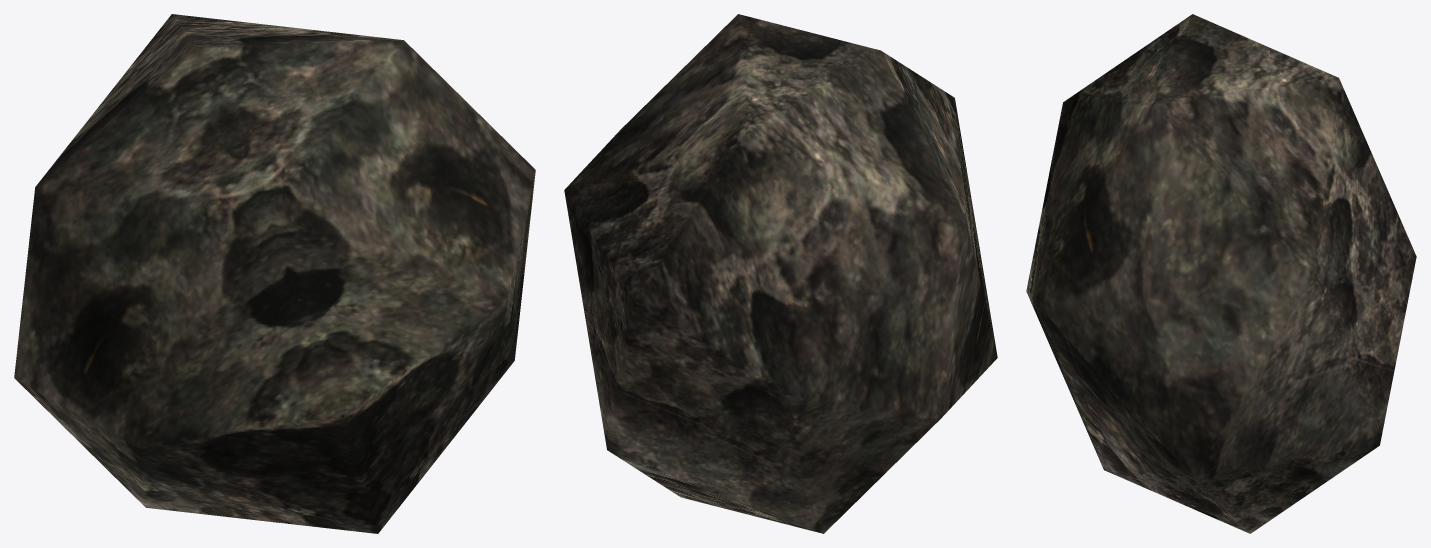
The model's file is stone_18.obj.
3 views of the same model, side by side, from view 1: azimuth 30°, elevation 25°; view 2: azimuth 150°, elevation 25°; view 3: azimuth 270°, elevation 25° (orthographic). The views are drawn at different scales.
Parts seen in each view (by area): view 1: (null); view 2: (null); view 3: (null).
Part boxes in pixels (bbox=[...]): (null): bbox=[14, 14, 535, 533]; (null): bbox=[564, 14, 997, 533]; (null): bbox=[1026, 14, 1416, 533].
Bounding box in the file's own units: 1.31 × 1.47 × 1.18.
